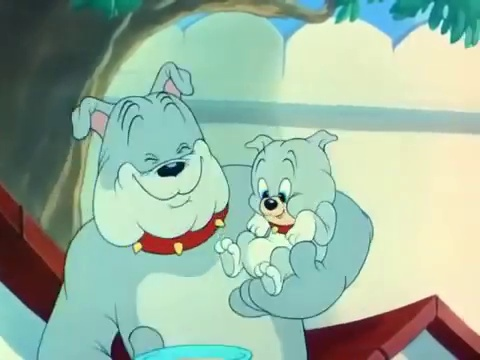spike: (69, 60, 234, 257)
